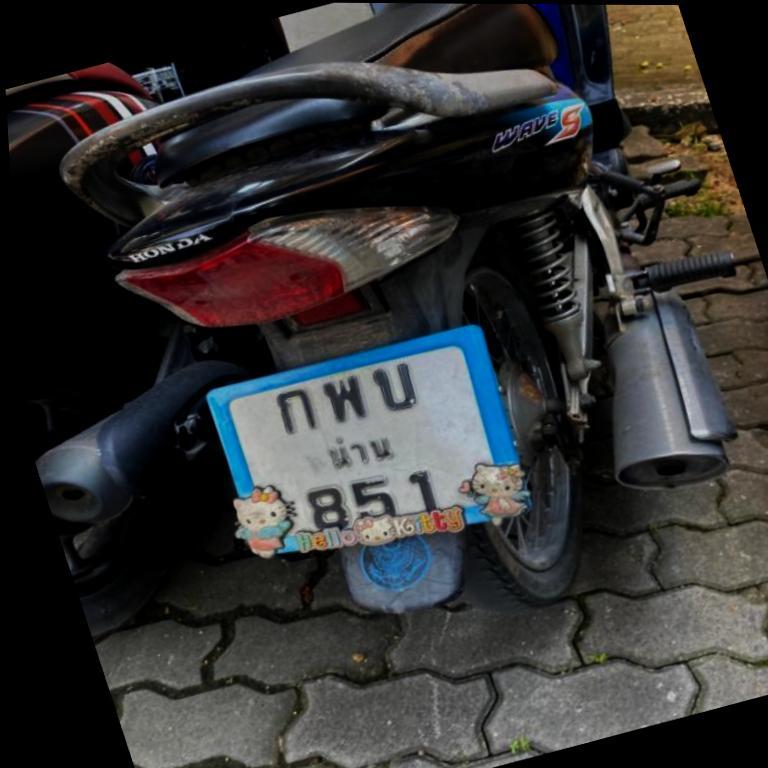license plate: (197, 317, 546, 586)
